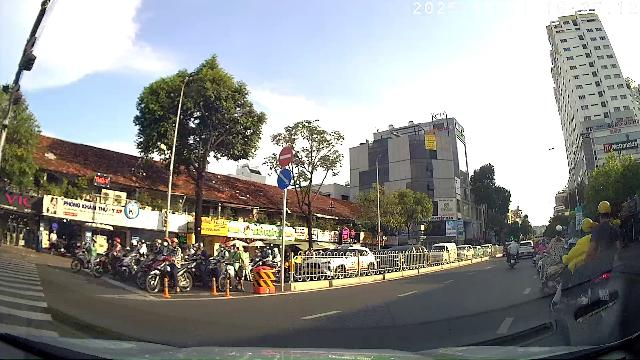102-cam-di-nguoc-chieu: (278, 146, 293, 167)
302a-huong-phai-di-vong-chuong-ngai-vat-1: (277, 168, 292, 190)
